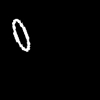chain: (12, 19, 29, 50)
